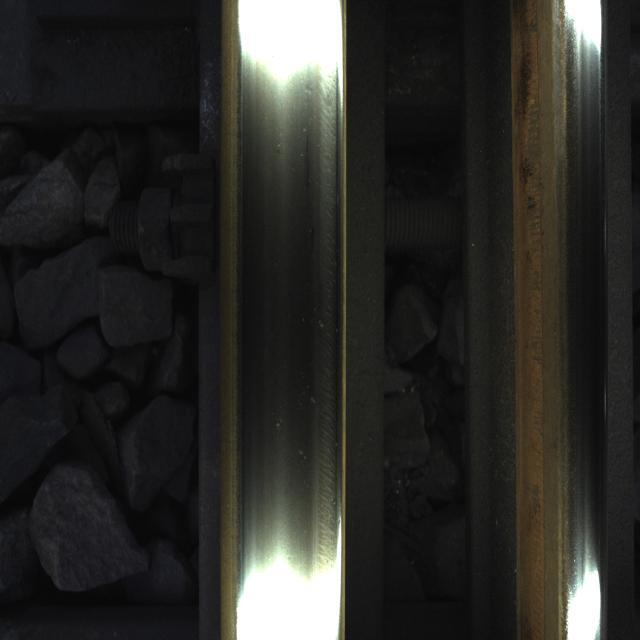break: (237, 51, 335, 562)
